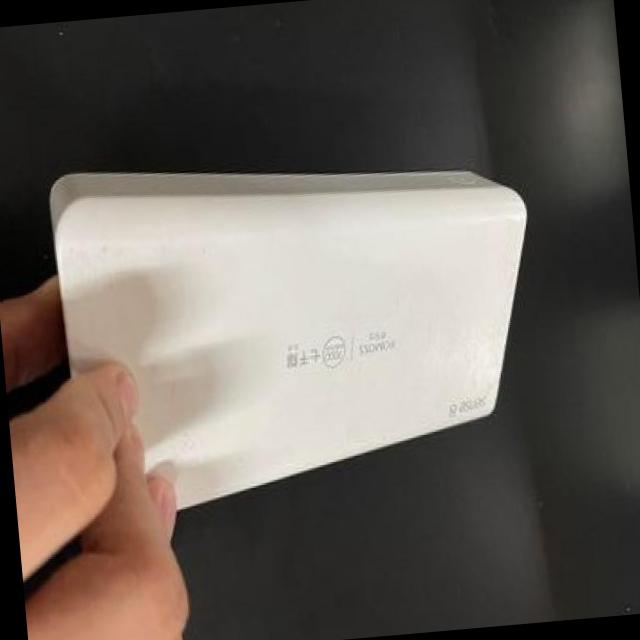power_bank: (29, 124, 554, 544)
